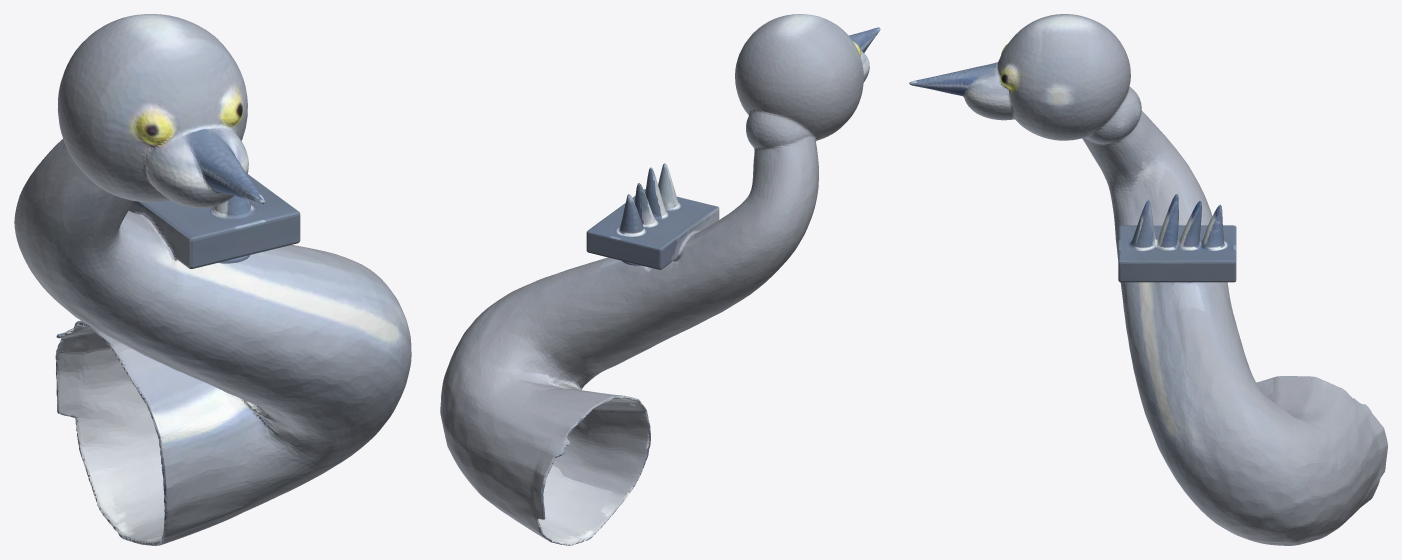
File: creature-045.glb
The picture shows the model from 3 angles, left to right: view 1: azimuth 30°, elevation 25°; view 2: azimuth 150°, elevation 25°; view 3: azimuth 270°, elevation 25°; orthographic projection. The views are drawn at different scales.
Visible parts, largest first — view 1: tmpuk_4wmrz.ply; view 2: tmpuk_4wmrz.ply; view 3: tmpuk_4wmrz.ply.
Boxes of the visible parts, <box> form: tmpuk_4wmrz.ply: <box>14,14,411,545</box>; tmpuk_4wmrz.ply: <box>440,14,880,545</box>; tmpuk_4wmrz.ply: <box>909,14,1387,545</box>.
Bounding box in the file's own units: 1.41 × 1.99 × 1.89.
Materials: 1 (1 with a texture image).
